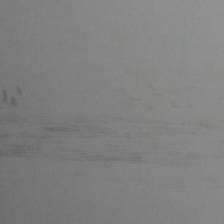surfer: (9, 97, 18, 105), (0, 90, 8, 98), (15, 86, 22, 94)
